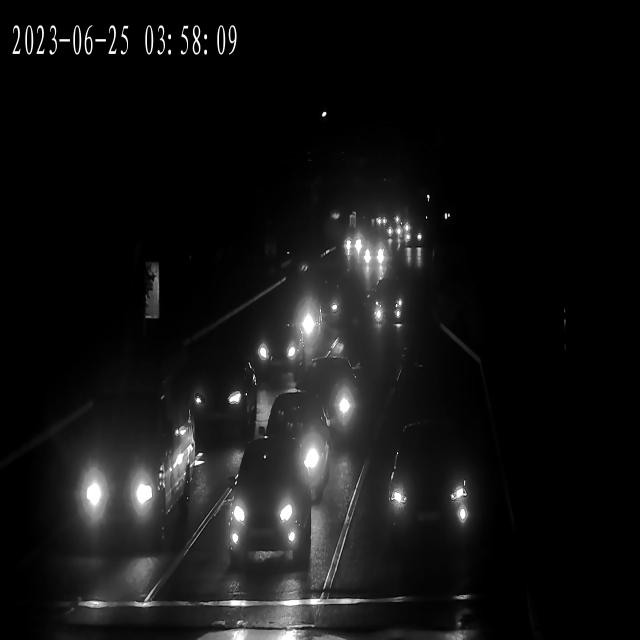Car: (52, 402, 198, 553), (374, 433, 482, 546), (220, 462, 314, 577), (243, 402, 339, 510), (162, 357, 258, 439), (293, 356, 364, 442), (270, 302, 324, 359), (250, 321, 303, 372), (371, 284, 404, 322), (358, 244, 388, 268), (341, 235, 366, 255), (405, 233, 424, 250), (405, 231, 425, 246), (384, 228, 404, 242), (373, 215, 389, 228)
